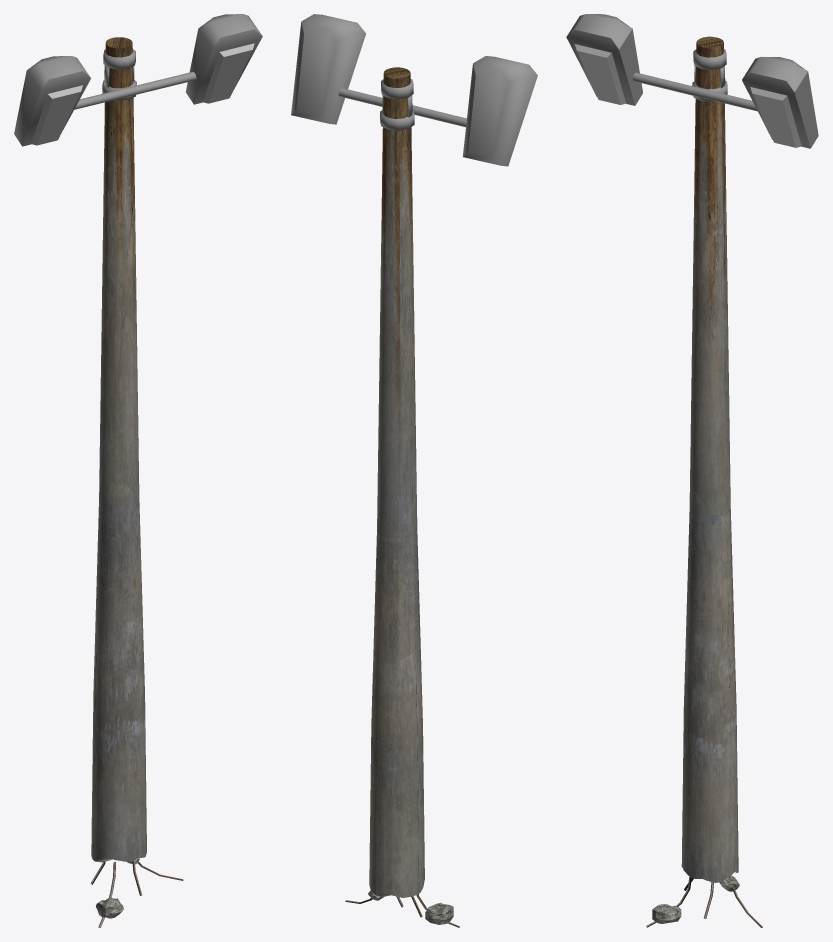
Rendered from RoadLamp3_3a.FBX.
3 views of the same model, side by side, from view 1: azimuth 30°, elevation 25°; view 2: azimuth 150°, elevation 25°; view 3: azimuth 330°, elevation 25° (orthographic). The views are drawn at different scales.
Visible parts, largest first — view 1: LampPillar, LampLight, Debris; view 2: LampPillar, LampLight, Debris; view 3: LampPillar, LampLight, Debris.
Boxes of the visible parts, x1,y1,x2,y2 form: LampPillar: (91, 37, 146, 862); LampLight: (14, 14, 262, 146); Debris: (90, 858, 183, 927); LampPillar: (369, 67, 424, 897); LampLight: (291, 14, 537, 166); Debris: (345, 890, 459, 927); LampPillar: (681, 36, 738, 882); LampLight: (566, 14, 818, 148); Debris: (646, 875, 762, 927).
Bounding box in the file's own units: 33.35 × 126 × 11.83.
